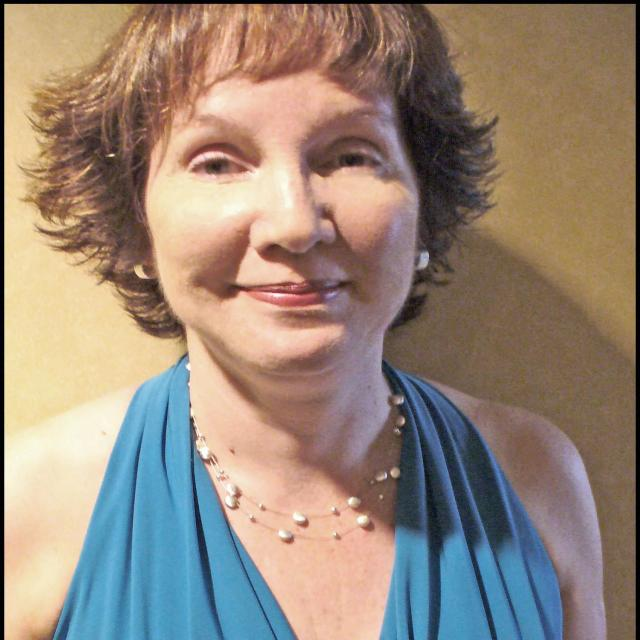no-glass: (188, 139, 385, 190)
